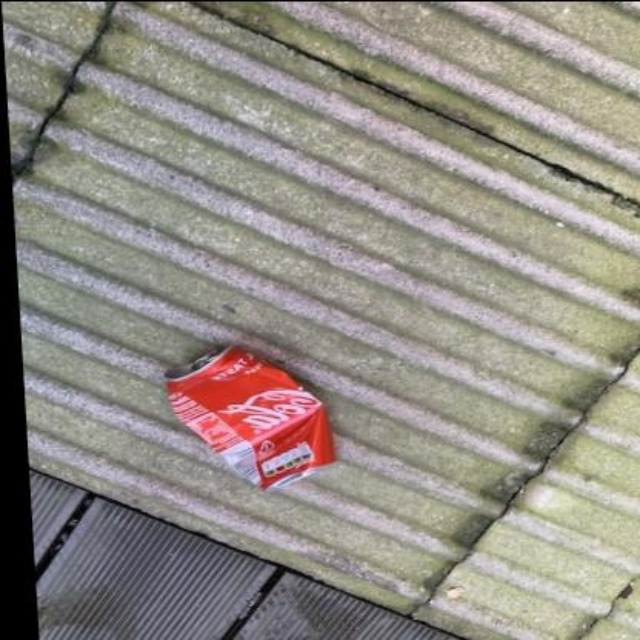trash: (166, 346, 334, 488)
